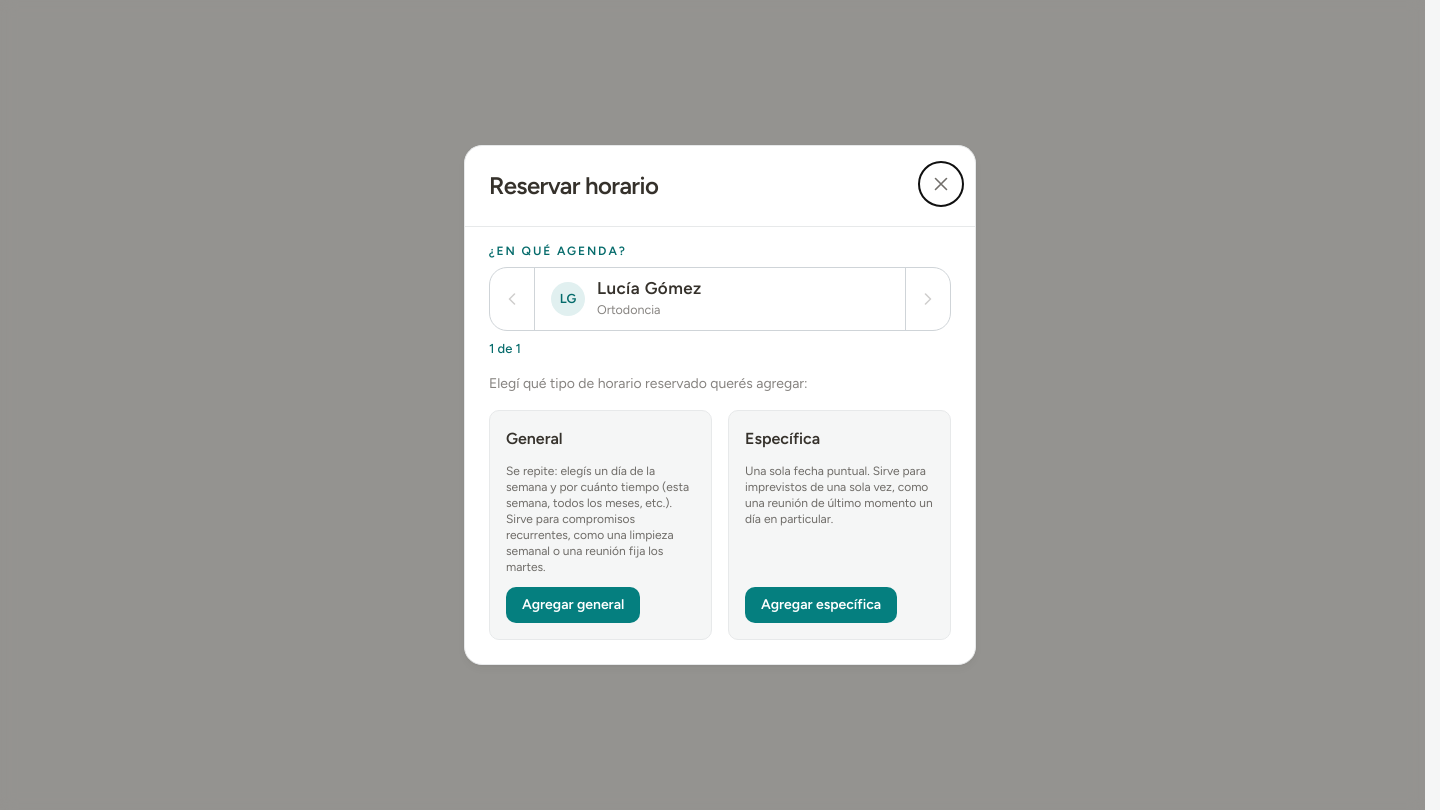
Test case: ReservarHorarioModal › 'Agregar general' abre el formulario de horario reservado general
Click the button "Agregar general".
click(573, 605)  # box [506,587,640,623]
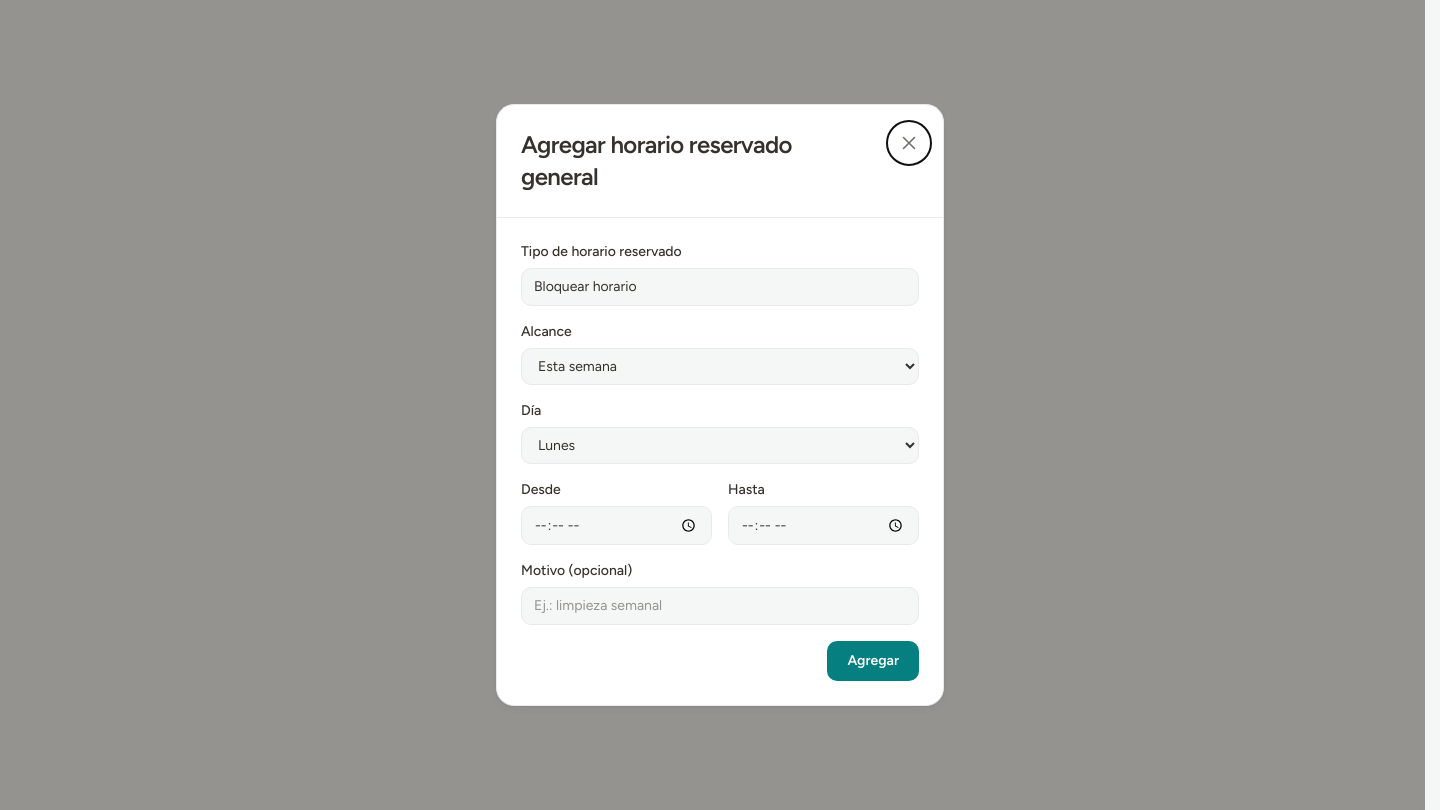
Expected: the dialog "Agregar horario reservado general" is shown, [496,104,944,706]
Expected: the heading "Reservar horario" is gone
